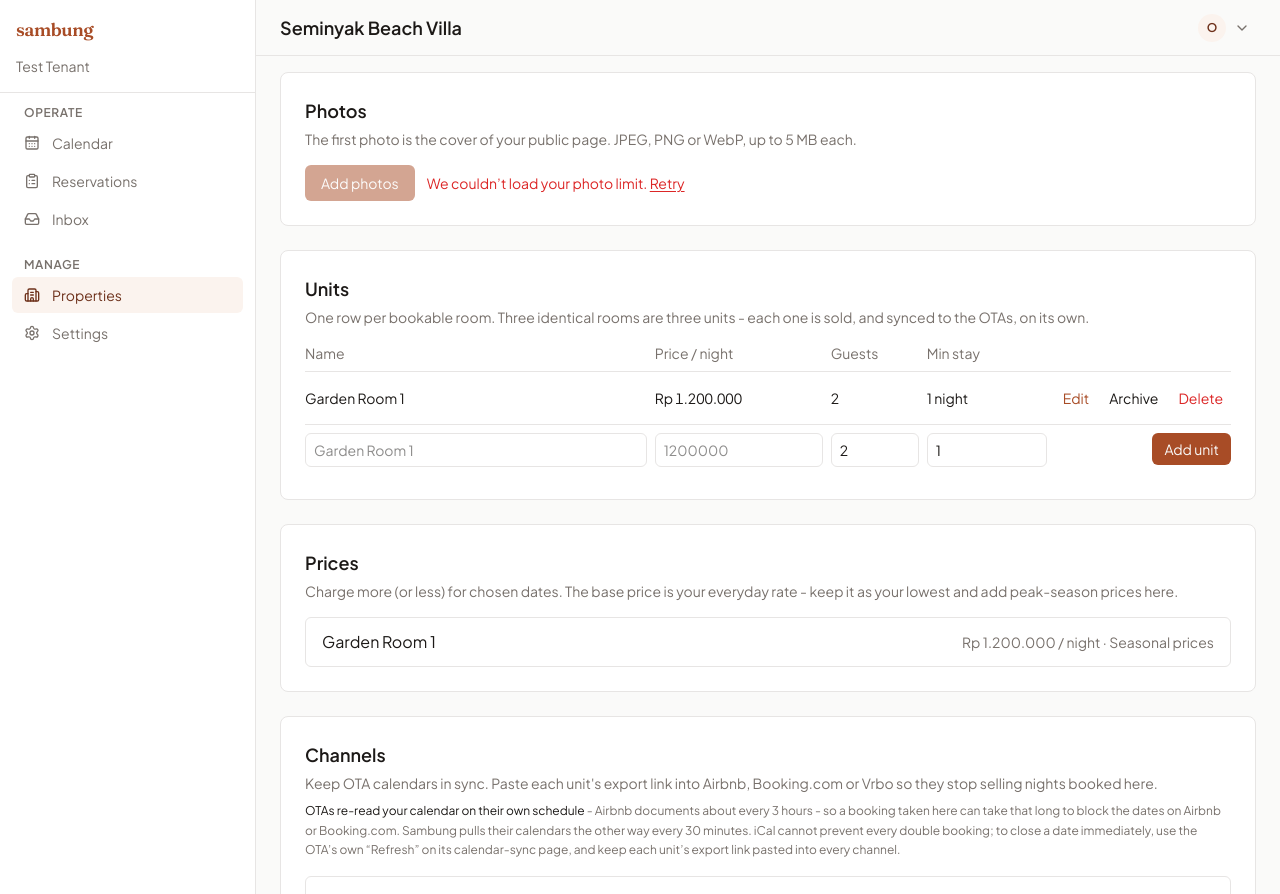
Test: units section (§4.5) › rejects a blank price rather than reading it as zero
(page scrolled)
Type "Nameless Price" into the field named "New unit name".
click(476, 450); type("Nameless Price")  # box [305,433,647,467]
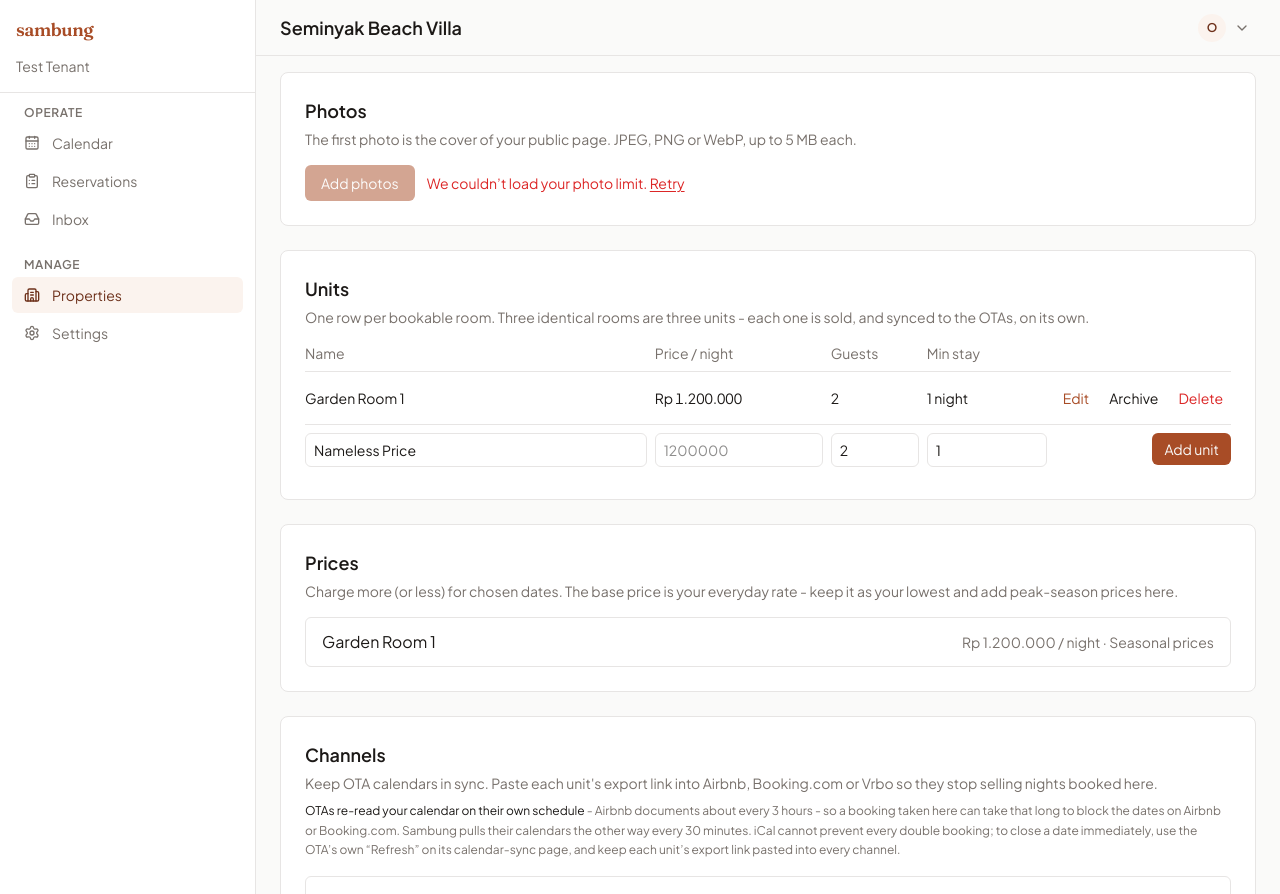
Click the button "Add unit".
click(1192, 449)  # box [1152,433,1231,465]
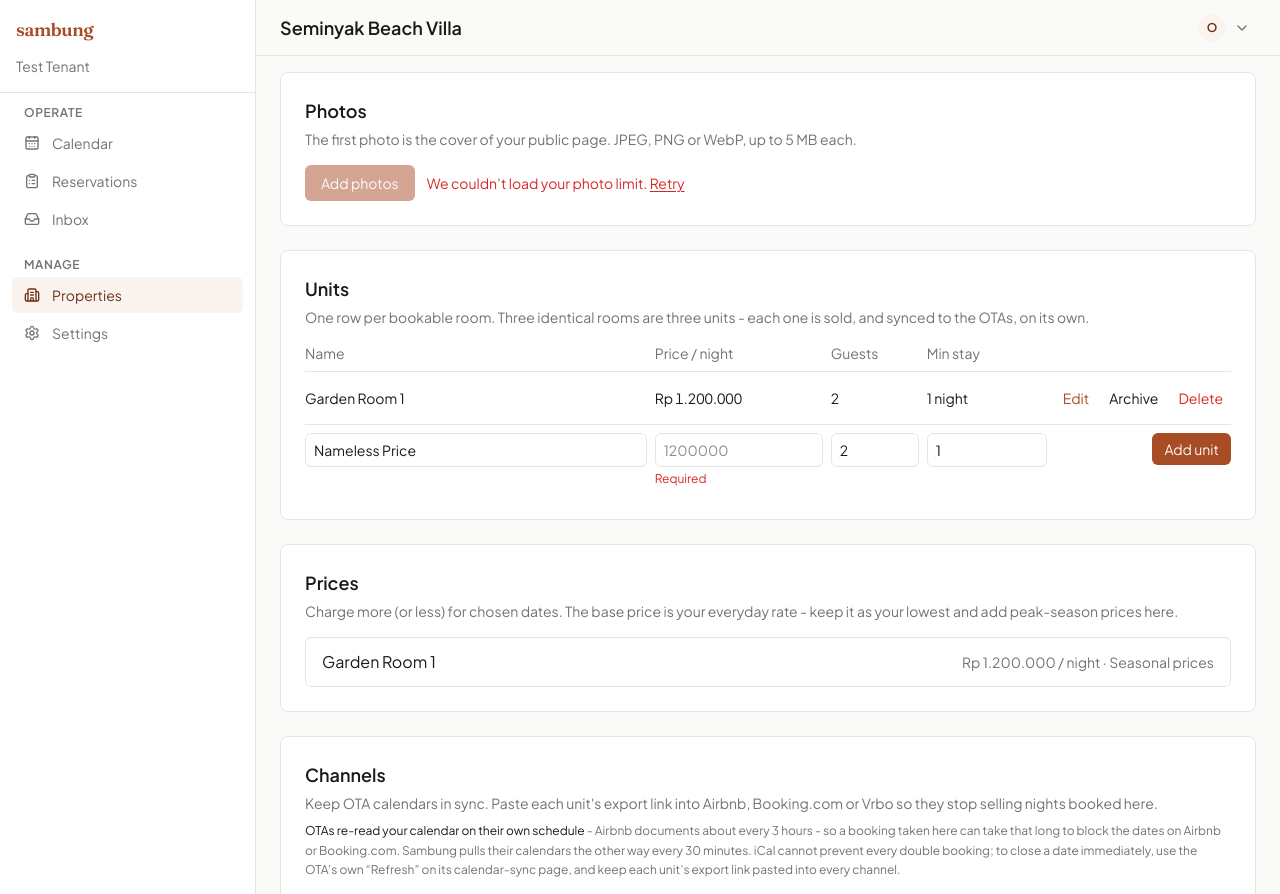
Expected: the text "Required" is shown, [655,471,706,486]
